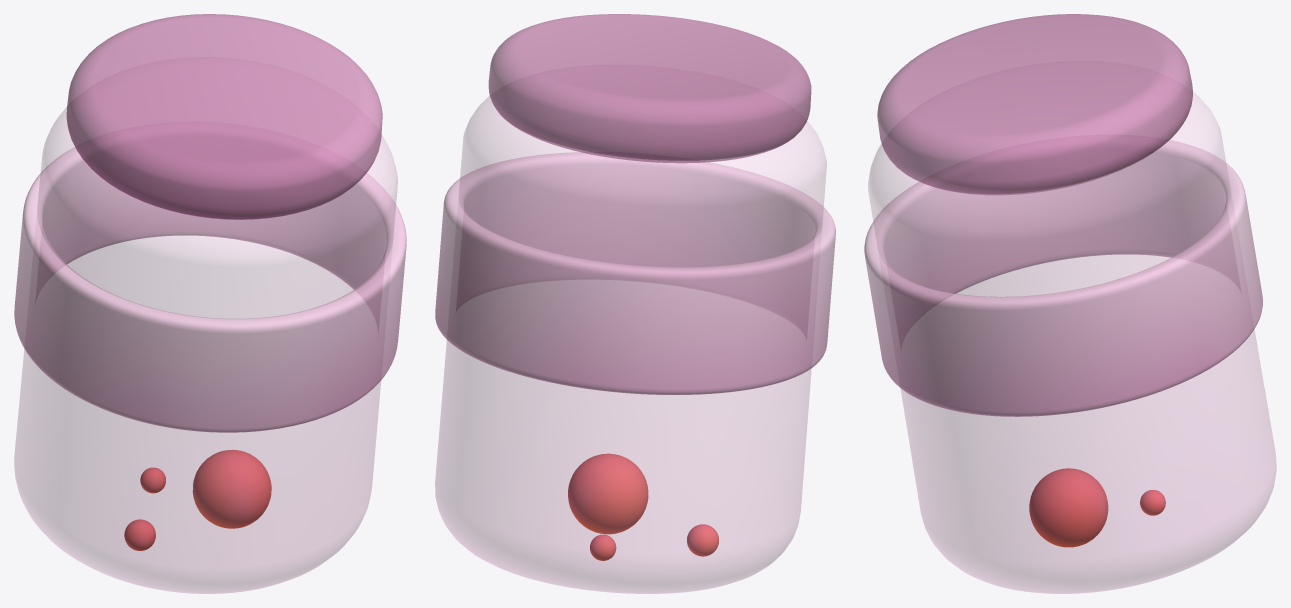
The model's file is near-empty-jar.glb.
3 renders of one model, left to right at view 1: azimuth 30°, elevation 25°; view 2: azimuth 150°, elevation 25°; view 3: azimuth 270°, elevation 25°, orthographic. The views are drawn at different scales.
Parts seen in each view (by area): view 1: jar, label, lid, last_piece_1; view 2: jar, label, lid, last_piece_1; view 3: jar, label, lid, last_piece_1.
Part boxes in pixels (<box>): jar: <box>14,107,397,593</box>; label: <box>14,147,406,432</box>; lid: <box>66,14,382,219</box>; last_piece_1: <box>124,450,271,550</box>; jar: <box>435,96,826,593</box>; label: <box>435,152,835,394</box>; lid: <box>488,14,811,163</box>; last_piece_1: <box>568,453,718,560</box>; jar: <box>868,92,1276,593</box>; label: <box>864,140,1262,416</box>; lid: <box>877,14,1192,195</box>; last_piece_1: <box>1029,468,1165,547</box>.
Bounding box in the file's own units: 0.5358 × 0.7562 × 0.5725.
